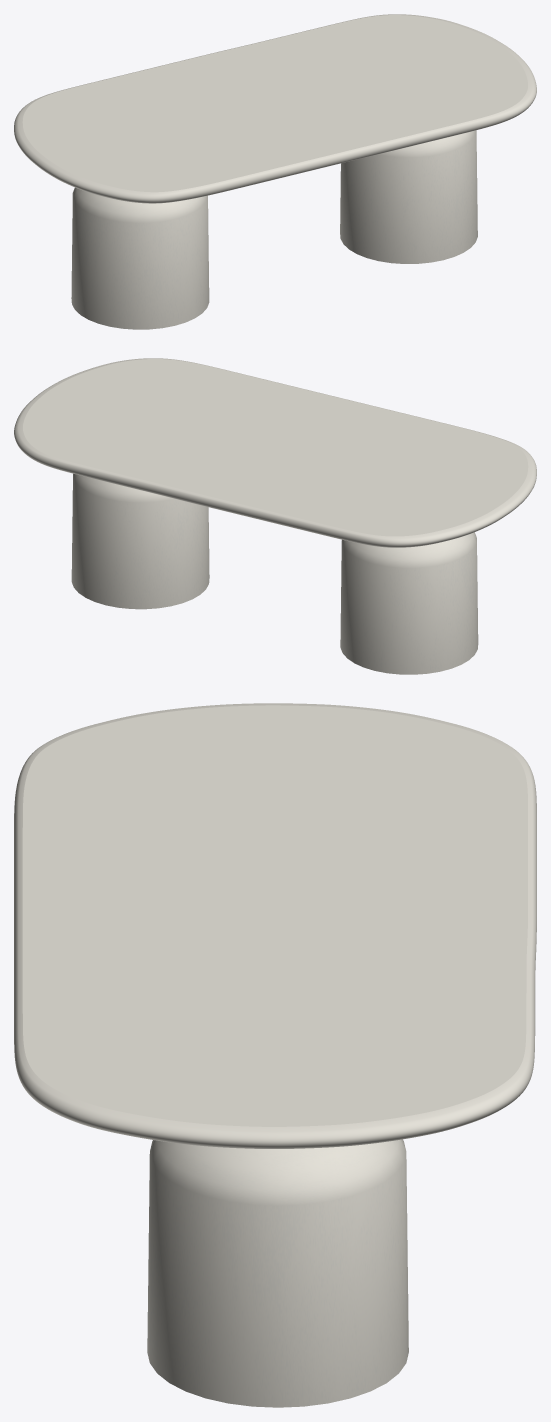
File: pale_oval_round_tornado.glb
3 renders of one model, top to bottom at view 1: azimuth 30°, elevation 25°; view 2: azimuth 150°, elevation 25°; view 3: azimuth 270°, elevation 25°, orthographic. The views are drawn at different scales.
Visible parts, largest first — view 1: round_oval, tornado; view 2: round_oval, tornado; view 3: round_oval, tornado.
Part boxes in pixels (x1,y1,x2,y2): round_oval: [14, 14, 536, 203]; tornado: [71, 130, 477, 329]; round_oval: [14, 358, 536, 547]; tornado: [71, 473, 478, 674]; round_oval: [14, 703, 536, 1148]; tornado: [147, 1139, 408, 1407].
Size of the model in its own units: 7.5 by 2.5 by 3.8.
Materials: 1 (1 with a texture image).
